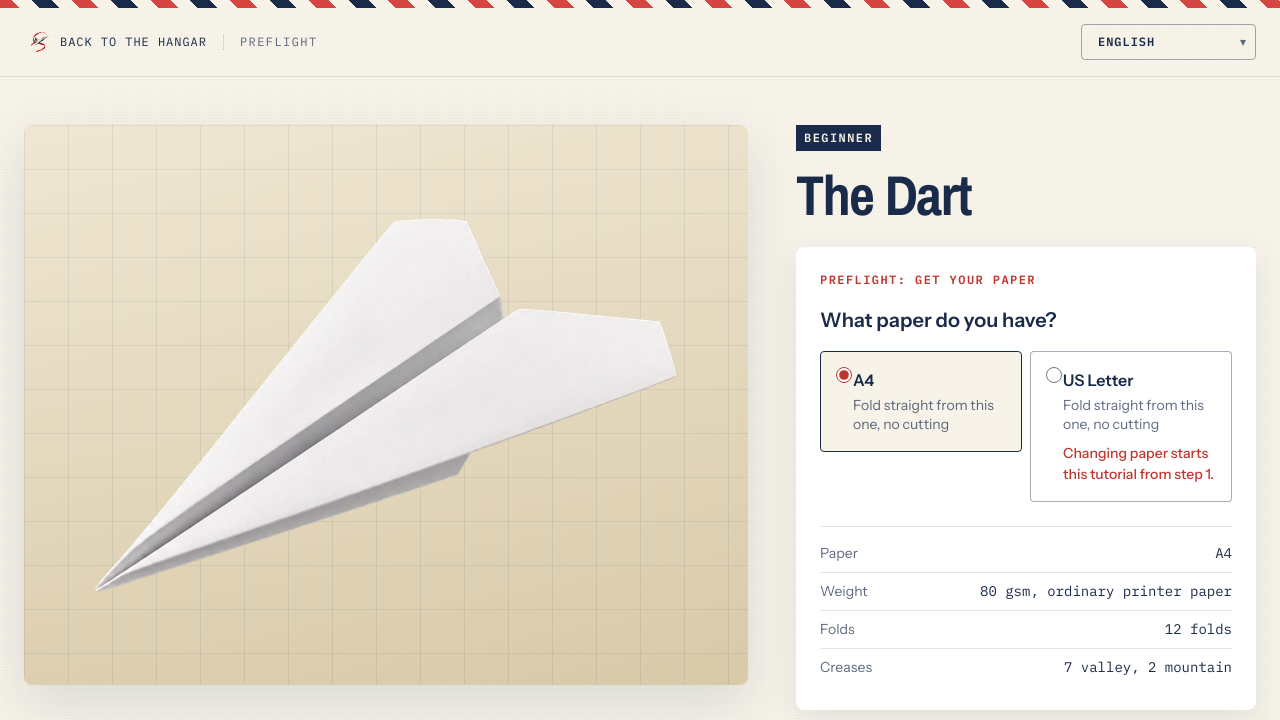
it: Preflight › uses native paper radios and explains when a change resets progress
The width and height of the screenshot is (1280, 720).
Expected: the text "Changing paper starts this tutorial from step 1." is shown, [1063,442,1215,484]
Click the 2nd radio button.
click(1054, 375)  # box [1046,367,1062,383]
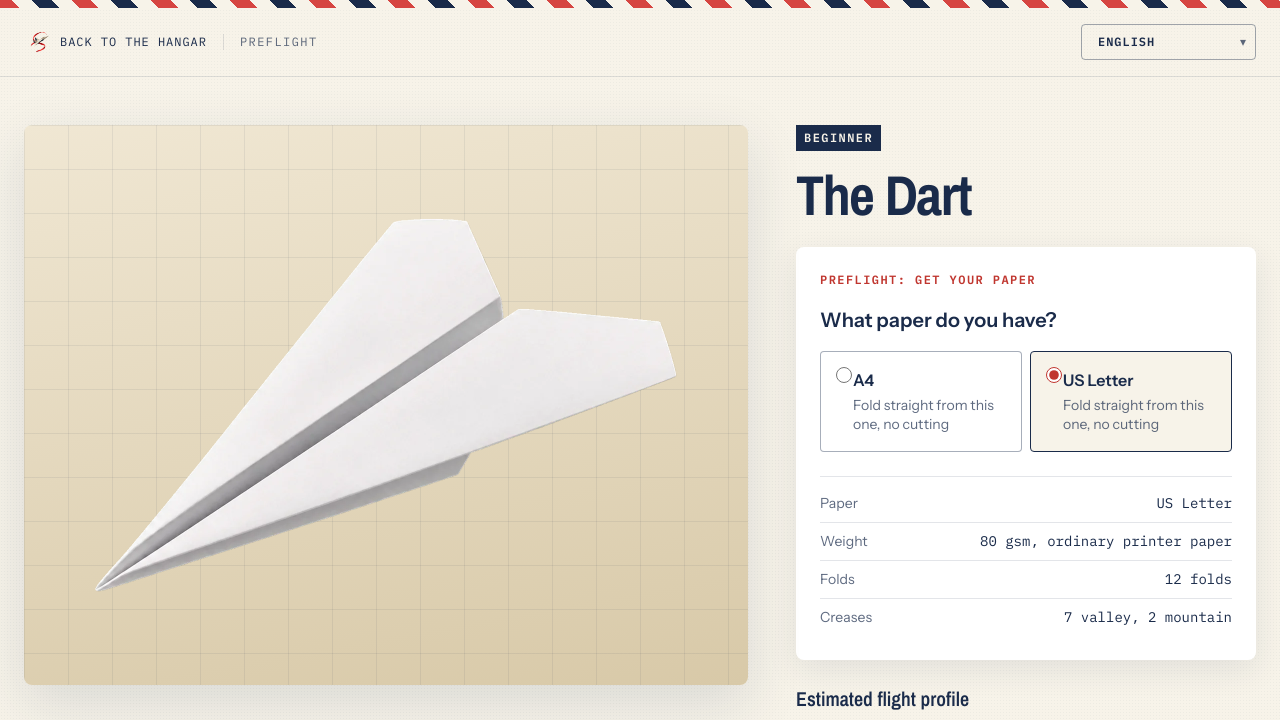
Now the radio button labelled "US Letter Fold straight from this one, no cutting" is checked, box [1046,367,1062,383]
Now the 2nd text "US Letter" is shown, box [1156,492,1232,514]
